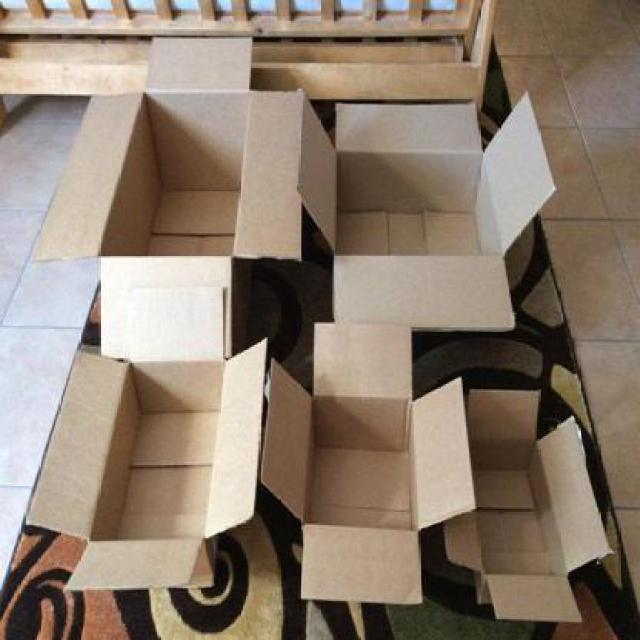box: (34, 16, 306, 365), (300, 66, 574, 364), (18, 285, 270, 606), (259, 310, 478, 636), (446, 374, 609, 640)
